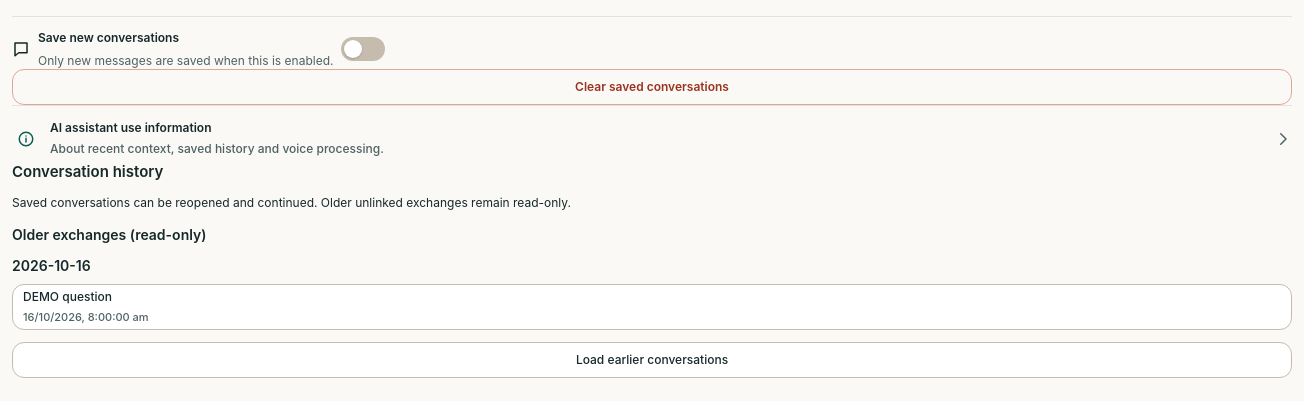
Test: paginates text-only saved history and requires confirmation before clearing
Later steps or results of the test are not shown.
Expected: the text "DEMO question" is shown, [23,289,112,306]
Click the button "Load earlier conversations": [652, 360] box [12,342,1292,378]
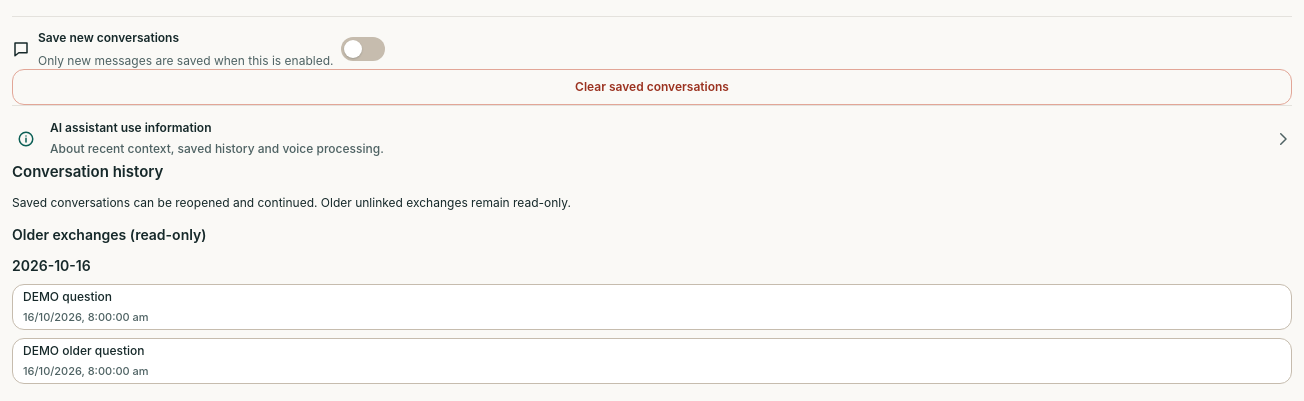
Expected: the text "DEMO older question" is shown, [23,343,144,360]
